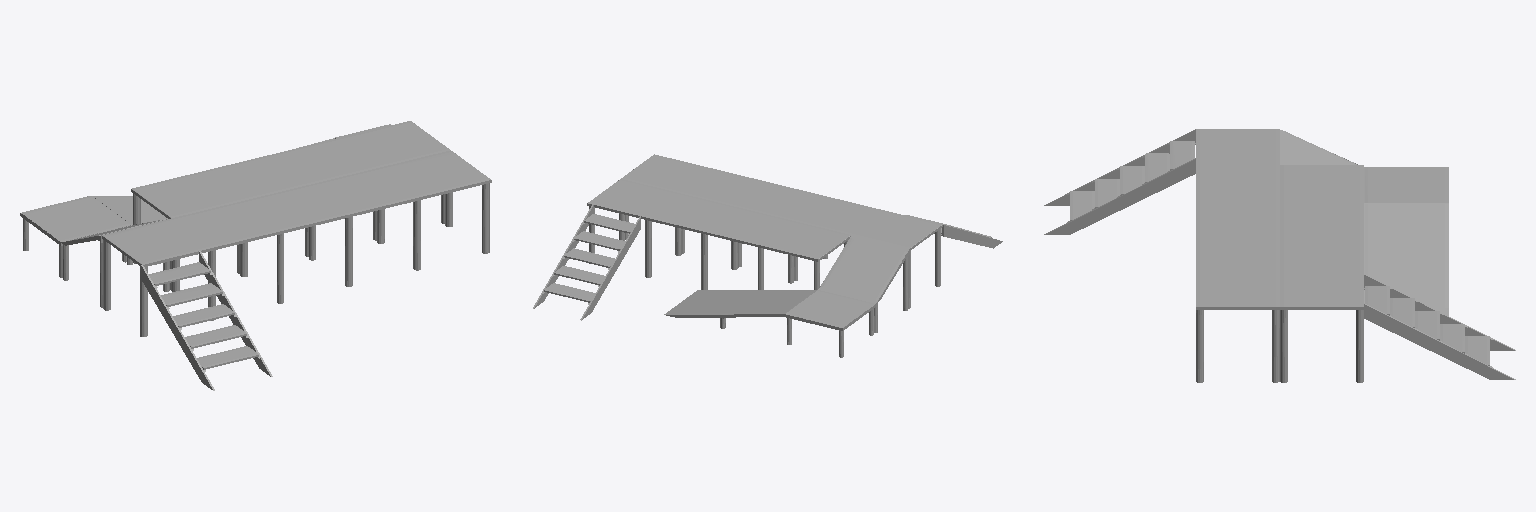
robot.urdf — platform_cad:
<?xml version='1.0' encoding='utf-8'?>
<robot name="platform_cad">
  <link name="base_link">
    <inertial>
      <origin xyz="0.0 0.0 0.0" rpy="0 0 0" />
      <mass value="1" />
      <inertia ixx="0.001" ixy="0" ixz="0" iyy="0.001" iyz="0" izz="0.001" />
    </inertial>
    <visual>
      <origin xyz="0 0 0" rpy="0 0 0" />
      <geometry>
        <mesh filename="package://platform_cad/meshes/platform_cad.stl" scale="1 1 1" />
      </geometry>
      <material name="grey">
        <color rgba="0.7 0.7 0.7 1.0" />
      </material>
    </visual>
    <collision>
      <origin xyz="0 0 0" rpy="0 0 0" />
      <geometry>
        <mesh filename="package://platform_cad/meshes/platform_cad.stl" scale="1 1 1" />
      </geometry>
    </collision>
  </link>
</robot>

--- Render facts (derived) ---
3 views of the same robot in one strip: view 1: azimuth 30°, elevation 25°; view 2: azimuth 150°, elevation 25°; view 3: azimuth 270°, elevation 25° (orthographic).
Model platform_cad with 1 links and 0 joints (none), rooted at base_link, posed every joint at zero.
Links seen in each view (by area): view 1: base_link; view 2: base_link; view 3: base_link.
Boxes of the visible links, x1,y1,x2,y2 form: base_link: [20, 121, 491, 390]; base_link: [533, 154, 1002, 357]; base_link: [1044, 129, 1515, 382].
Bounding box of the posed robot: 5.02 × 5.61 × 1 m (x, y, z).
1 mesh visuals loaded from 1 distinct referenced files (1 binary STL).